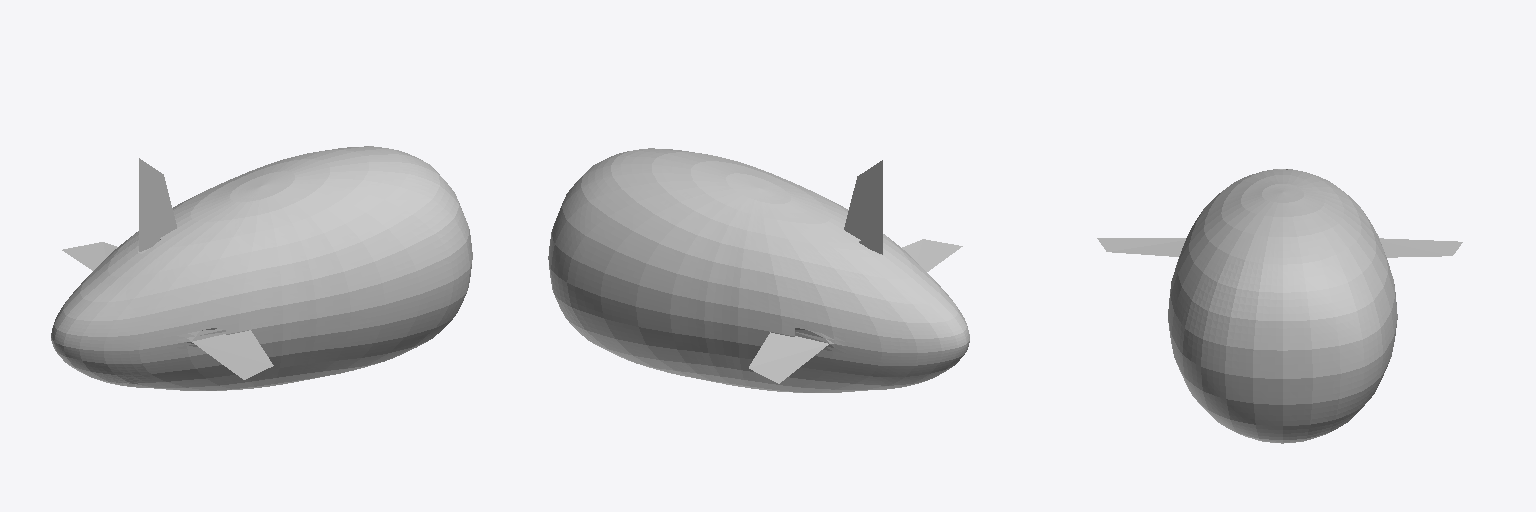
File: moab2.obj
3 views of the same model, side by side, from view 1: azimuth 30°, elevation 25°; view 2: azimuth 150°, elevation 25°; view 3: azimuth 270°, elevation 25° (orthographic).
Visible parts, largest first — view 1: Sphere.001; view 2: Sphere.001; view 3: Sphere.001.
Boxes of the visible parts, x1=… form: Sphere.001: x1=51, y1=146, x2=472, y2=390; Sphere.001: x1=548, y1=148, x2=969, y2=392; Sphere.001: x1=1097, y1=169, x2=1462, y2=443.
Bounding box in the file's own units: 4.4 × 2.63 × 3.48.